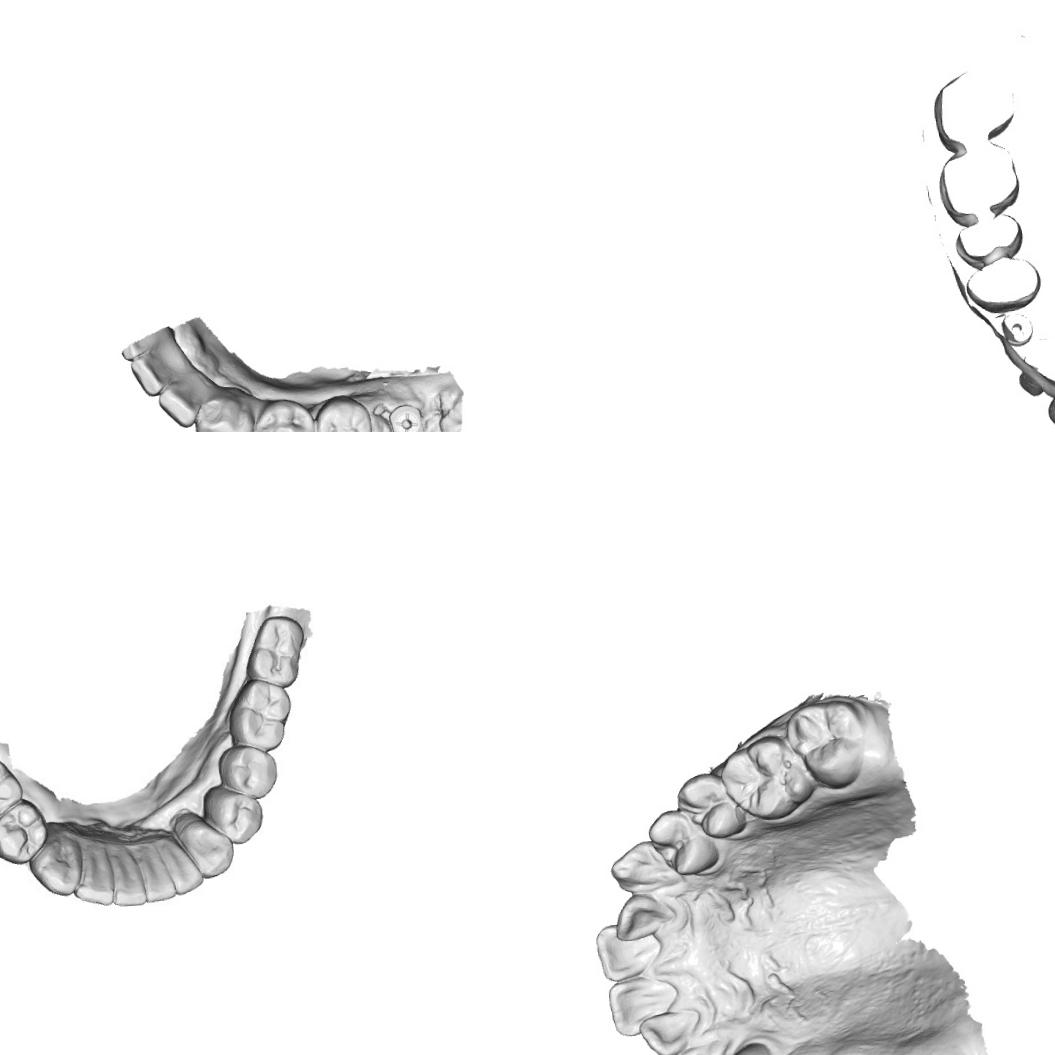canine: (604, 837, 685, 899), (174, 808, 236, 882), (26, 820, 81, 898), (192, 384, 252, 432), (665, 1041, 723, 1055)
implant_plus: (386, 399, 428, 432)
incisor: (591, 918, 665, 984), (606, 974, 680, 1037), (610, 891, 677, 944), (637, 1006, 704, 1055), (155, 375, 212, 431), (153, 827, 201, 893), (125, 346, 179, 402), (109, 830, 146, 903), (77, 834, 114, 905), (134, 837, 172, 902)
molar: (715, 730, 819, 824), (782, 697, 870, 791), (235, 680, 293, 748), (249, 616, 302, 683)
premolar: (672, 766, 748, 843), (645, 804, 721, 878), (200, 782, 268, 847), (0, 798, 57, 864), (214, 744, 275, 798), (310, 394, 374, 432), (251, 397, 315, 432), (0, 755, 24, 824)
